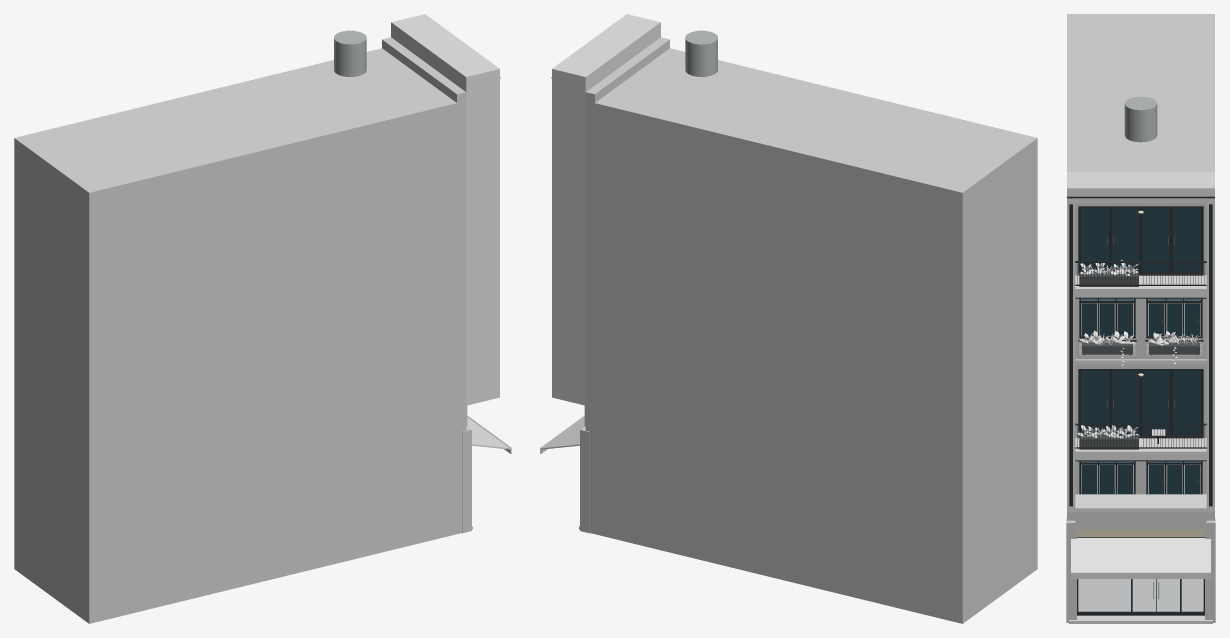
File: OW_Mau_NhaPho_5_5_0_B.fbx
3 renders of one model, left to right at view 1: azimuth 30°, elevation 25°; view 2: azimuth 150°, elevation 25°; view 3: azimuth 270°, elevation 25°, orthographic.
Visible parts, largest first — view 1: OW_NhaPho_9017; view 2: OW_NhaPho_9017; view 3: OW_NhaPho_9017, OW_MatTienKinh.
Boxes of the visible parts, x1,y1,x2,y2 form: OW_NhaPho_9017: (14,14,511,623); OW_NhaPho_9017: (540,14,1037,623); OW_NhaPho_9017: (1066,14,1215,623); OW_MatTienKinh: (1077,530,1204,615).
Bounding box in the file's own units: 17.77 × 19.45 × 5.5.
